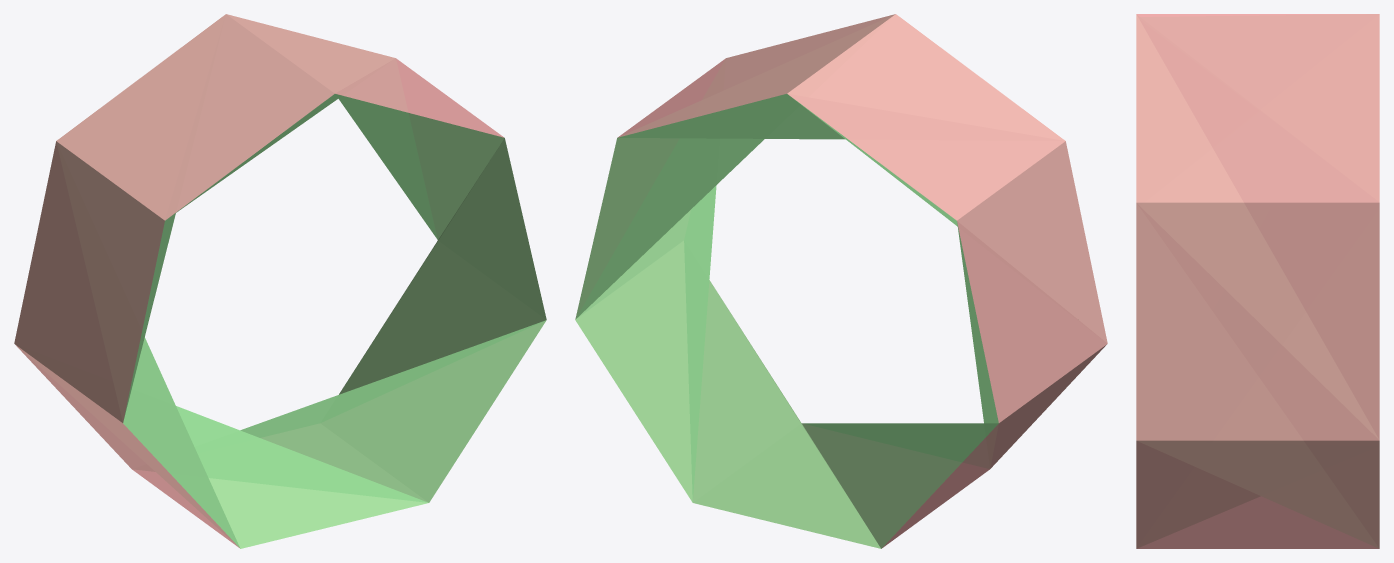
The model's file is HeptagonalIrisToroid2.obj.
3 views of the same model, side by side, from view 1: azimuth 30°, elevation 25°; view 2: azimuth 150°, elevation 25°; view 3: azimuth 270°, elevation 25° (orthographic). The views are drawn at different scales.
Size of the model in its own units: 2.25 by 2.19 by 1.
